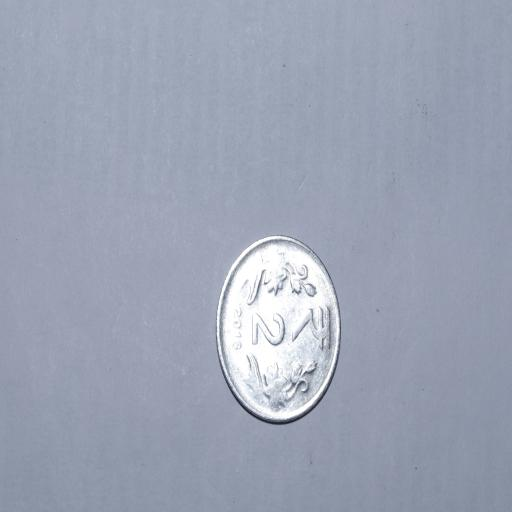rupee2: (214, 235, 345, 429)
